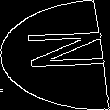N_E: (6, 33, 104, 77)
